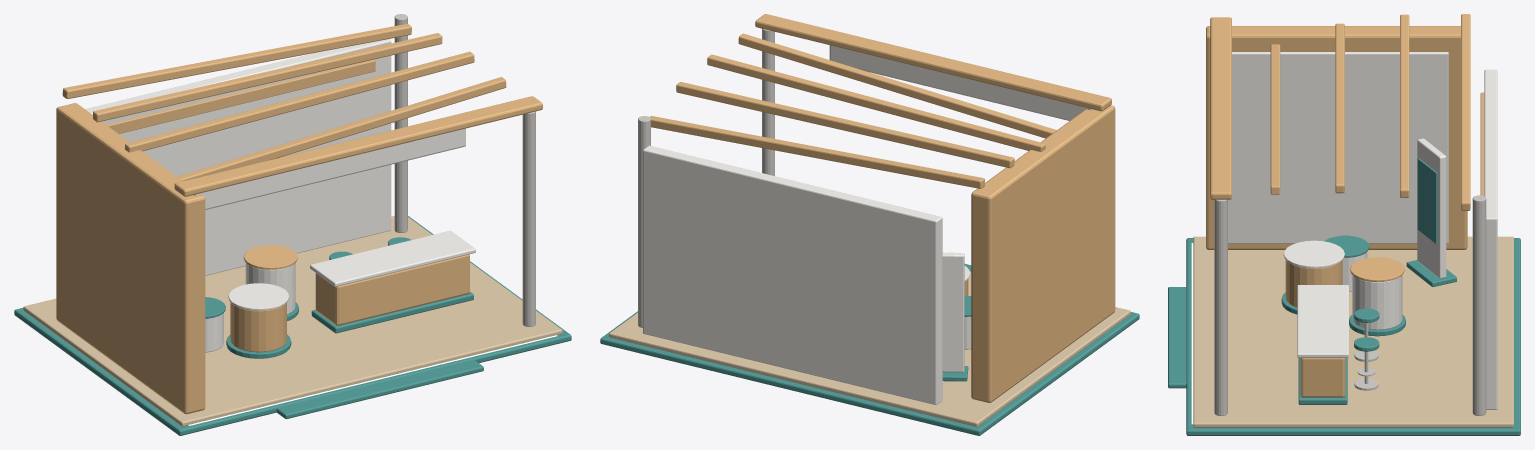
The model's file is booth_04_wave_pavilion_v27_4.glb.
3 views of the same model, side by side, from view 1: azimuth 30°, elevation 25°; view 2: azimuth 150°, elevation 25°; view 3: azimuth 270°, elevation 25° (orthographic). The views are drawn at different scales.
Parts seen in each view (by area): view 1: MatGroup_TerracottaWave, MatGroup_PavilionCream, MatGroup_WarmMapleFloor, MatGroup_DeepTealAccent, MatGroup_WarmSteel, MatGroup_WaveWarmLED; view 2: MatGroup_PavilionCream, MatGroup_TerracottaWave, MatGroup_WarmMapleFloor, MatGroup_DeepTealAccent, MatGroup_WarmSteel; view 3: MatGroup_PavilionCream, MatGroup_WarmMapleFloor, MatGroup_TerracottaWave, MatGroup_DeepTealAccent, MatGroup_WarmSteel, MatGroup_WaveWarmLED.
Boxes of the visible parts, x1=… form: MatGroup_TerracottaWave: x1=56, y1=23, x2=542, y2=414; MatGroup_PavilionCream: x1=85, y1=39, x2=475, y2=352; MatGroup_WarmMapleFloor: x1=23, y1=216, x2=562, y2=426; MatGroup_DeepTealAccent: x1=14, y1=216, x2=571, y2=435; MatGroup_WarmSteel: x1=394, y1=14, x2=535, y2=326; MatGroup_WaveWarmLED: x1=188, y1=335, x2=557, y2=425; MatGroup_PavilionCream: x1=643, y1=45, x2=1093, y2=404; MatGroup_TerracottaWave: x1=650, y1=14, x2=1115, y2=402; MatGroup_WarmMapleFloor: x1=609, y1=271, x2=1130, y2=426; MatGroup_DeepTealAccent: x1=600, y1=264, x2=1139, y2=435; MatGroup_WarmSteel: x1=638, y1=28, x2=774, y2=327; MatGroup_PavilionCream: x1=1228, y1=52, x2=1497, y2=409; MatGroup_WarmMapleFloor: x1=1193, y1=236, x2=1513, y2=427; MatGroup_TerracottaWave: x1=1206, y1=14, x2=1484, y2=397; MatGroup_DeepTealAccent: x1=1168, y1=158, x2=1520, y2=435; MatGroup_WarmSteel: x1=1214, y1=195, x2=1486, y2=415; MatGroup_WaveWarmLED: x1=1191, y1=243, x2=1193, y2=424.
Size of the model in its own units: 6.72 by 3.93 by 5.19.
